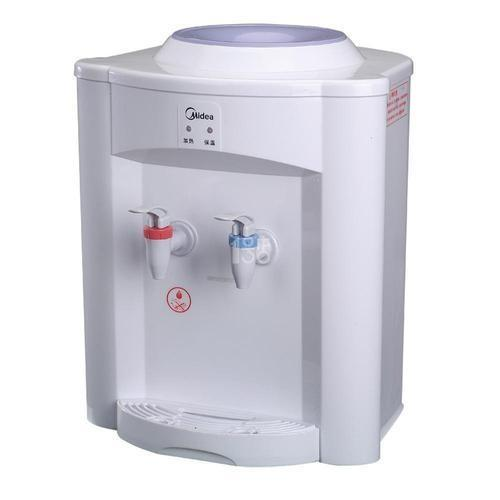Dispenser: (73, 23, 413, 466)
